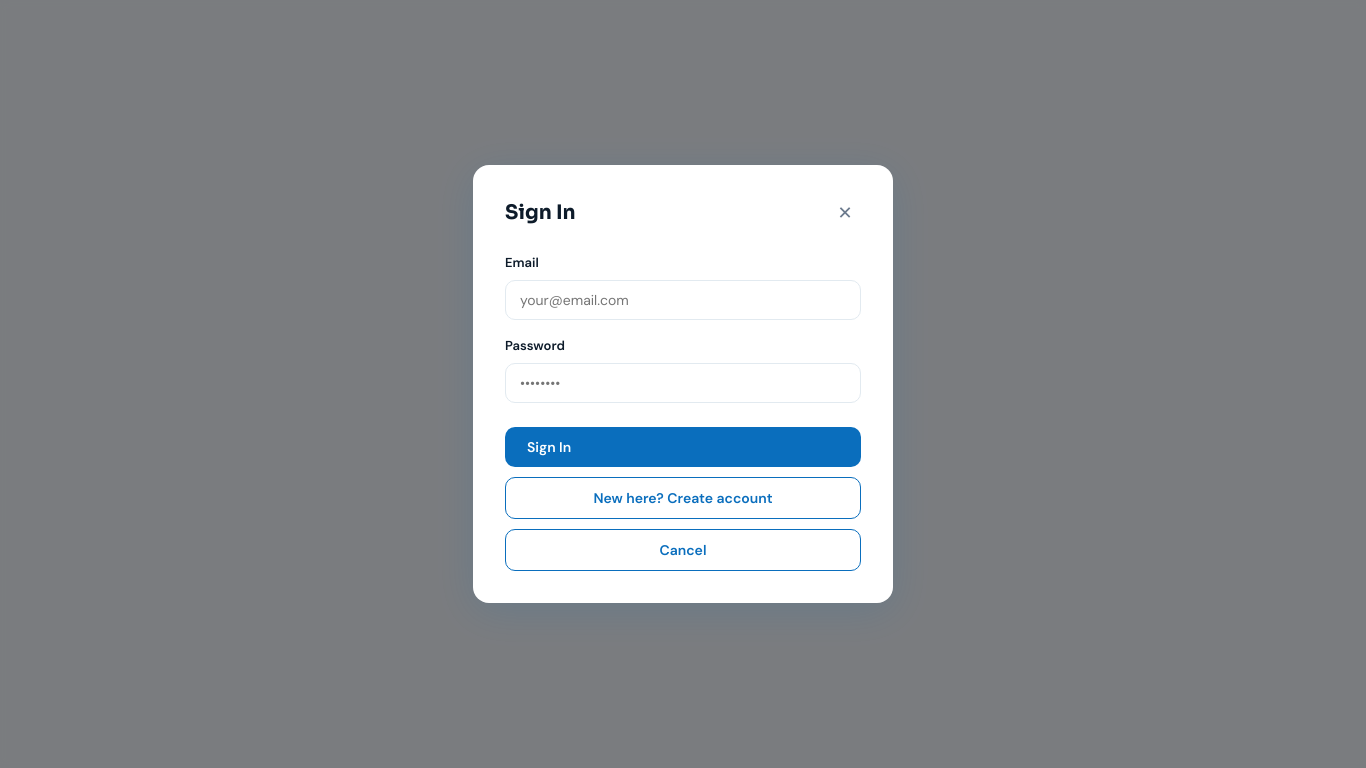
Test: AuthModal › switches back to login mode from register mode
The image size is (1366, 768).
Click the button "New here? Create account" at point(683, 498), box 505,477 -> 861,519
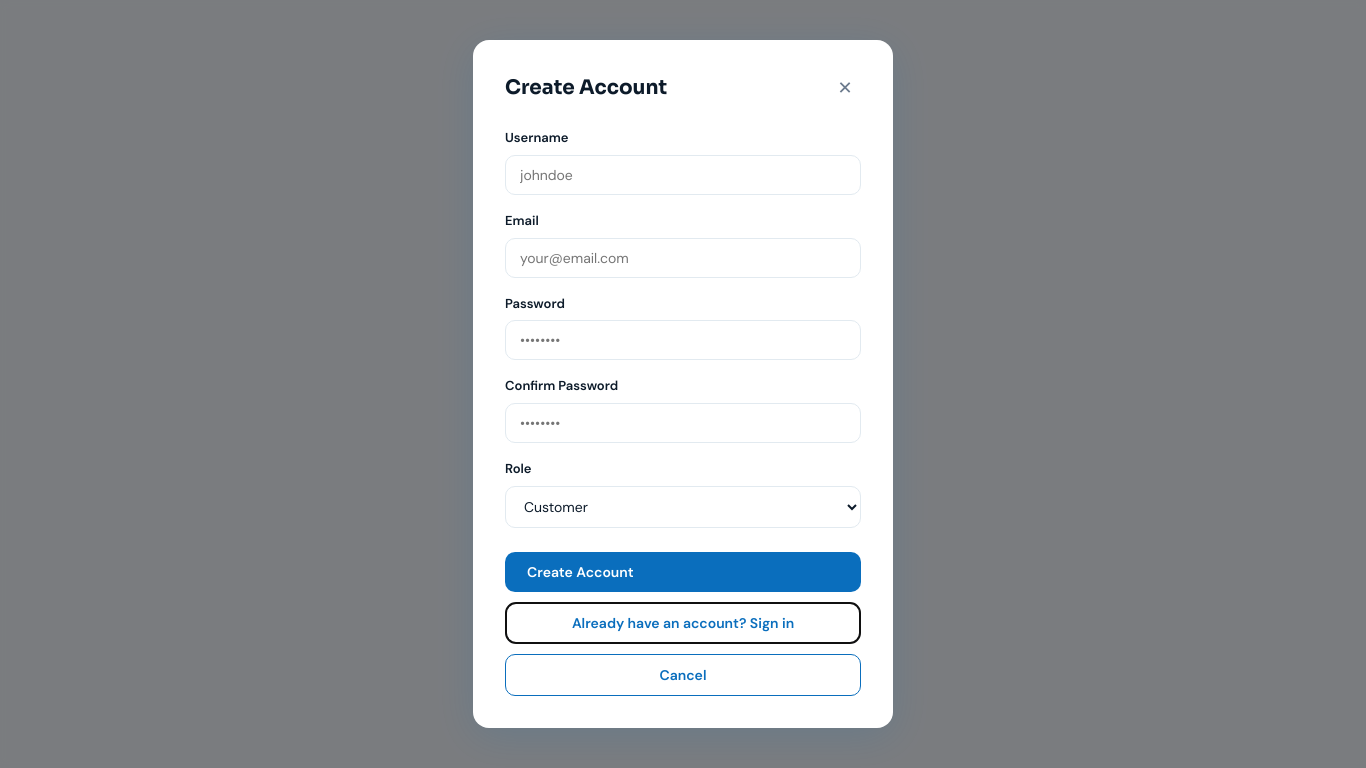
Click the button "Already have an account? Sign in" at point(683, 623), box 505,602 -> 861,644
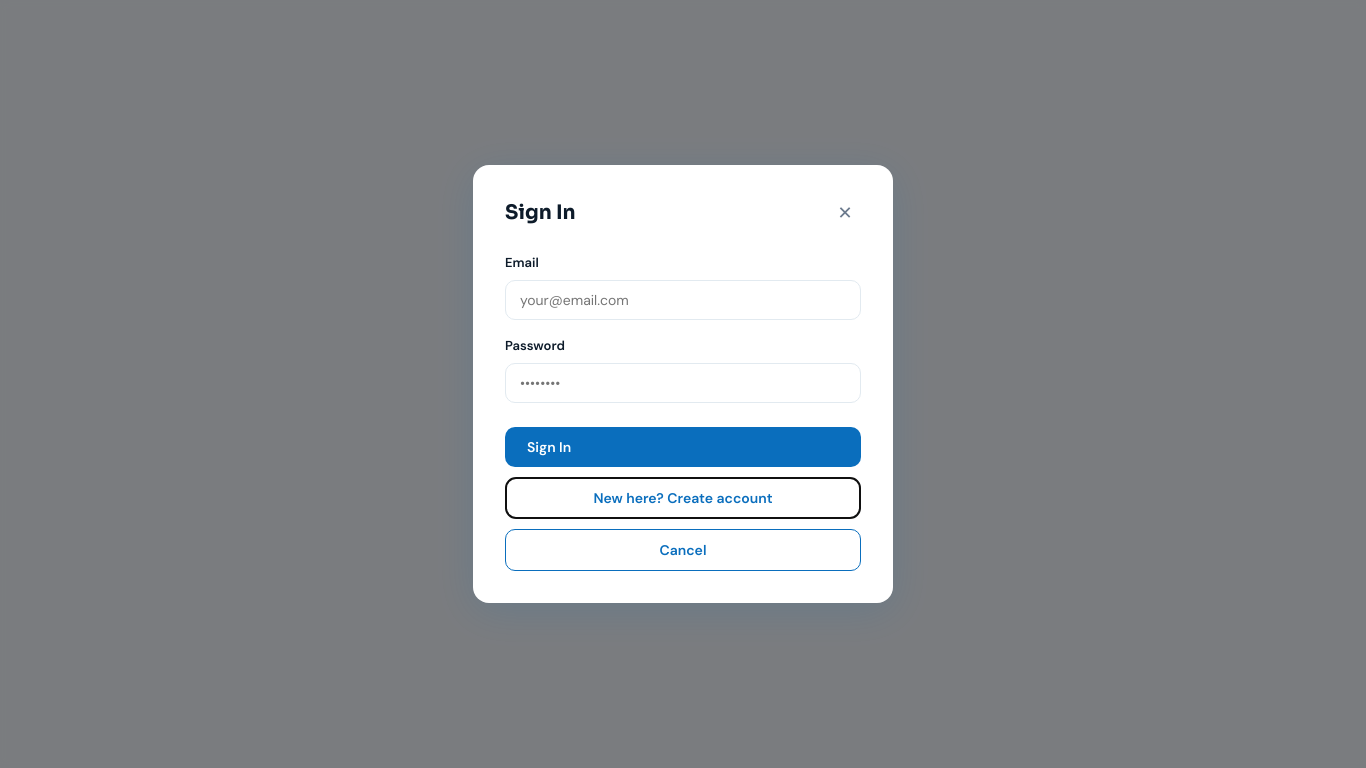
Expected: the heading "Sign In" is shown, 505,197 -> 576,229
